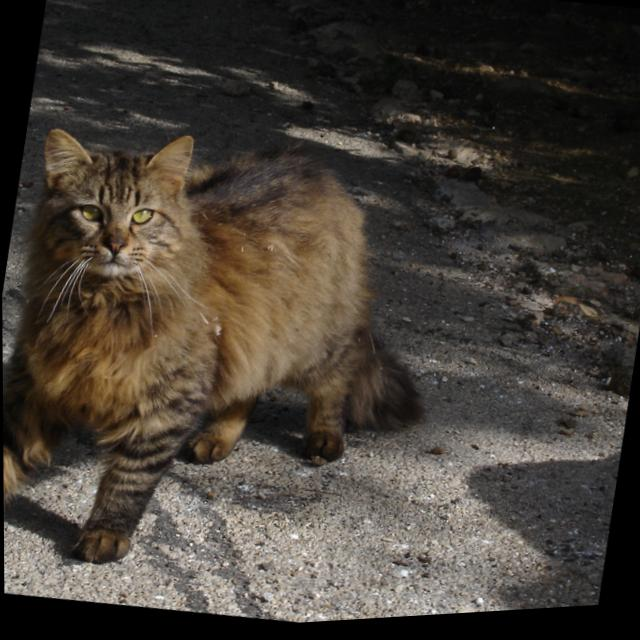animals: (35, 117, 191, 265)
